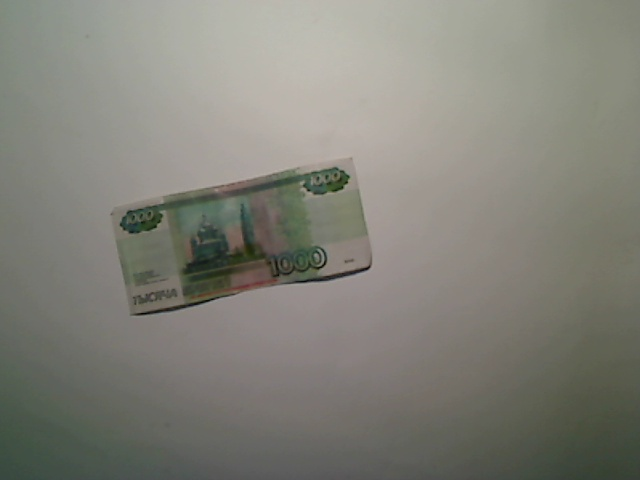banknotes: (107, 149, 376, 319)
